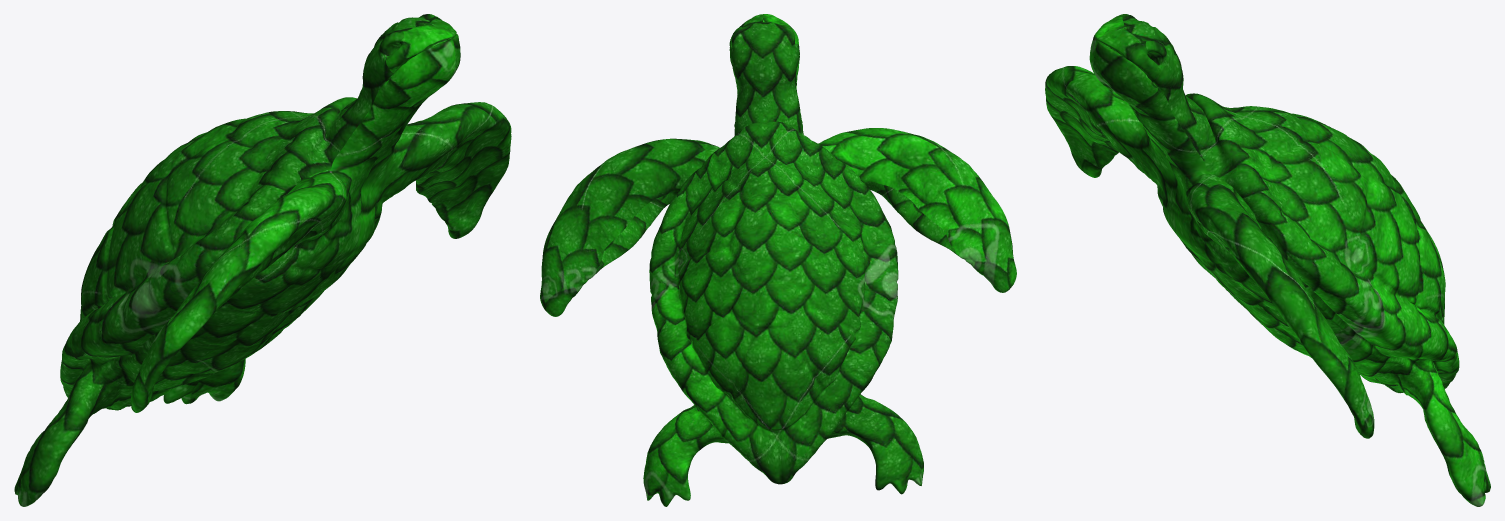
Rendered from turtle.gltf.
The picture shows the model from 3 angles, left to right: view 1: azimuth 30°, elevation 25°; view 2: azimuth 150°, elevation 25°; view 3: azimuth 270°, elevation 25°; orthographic projection. The views are drawn at different scales.
Parts seen in each view (by area): view 1: body; view 2: body; view 3: body.
Boxes of the visible parts, box(x1,y1,x2,y2) form: body: box(14, 14, 511, 506); body: box(540, 14, 1016, 506); body: box(1045, 14, 1490, 506).
Size of the model in its own units: 1.33 by 1.28 by 1.05.
Materials: 1 (1 with a texture image).
